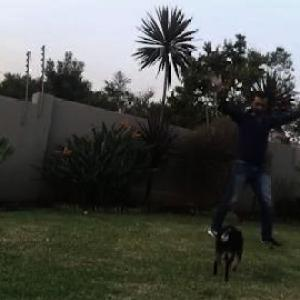takeoff: (212, 69, 299, 247)
